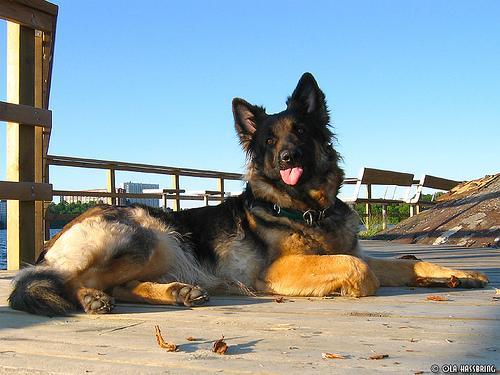German_shepherd: (11, 69, 492, 321)
